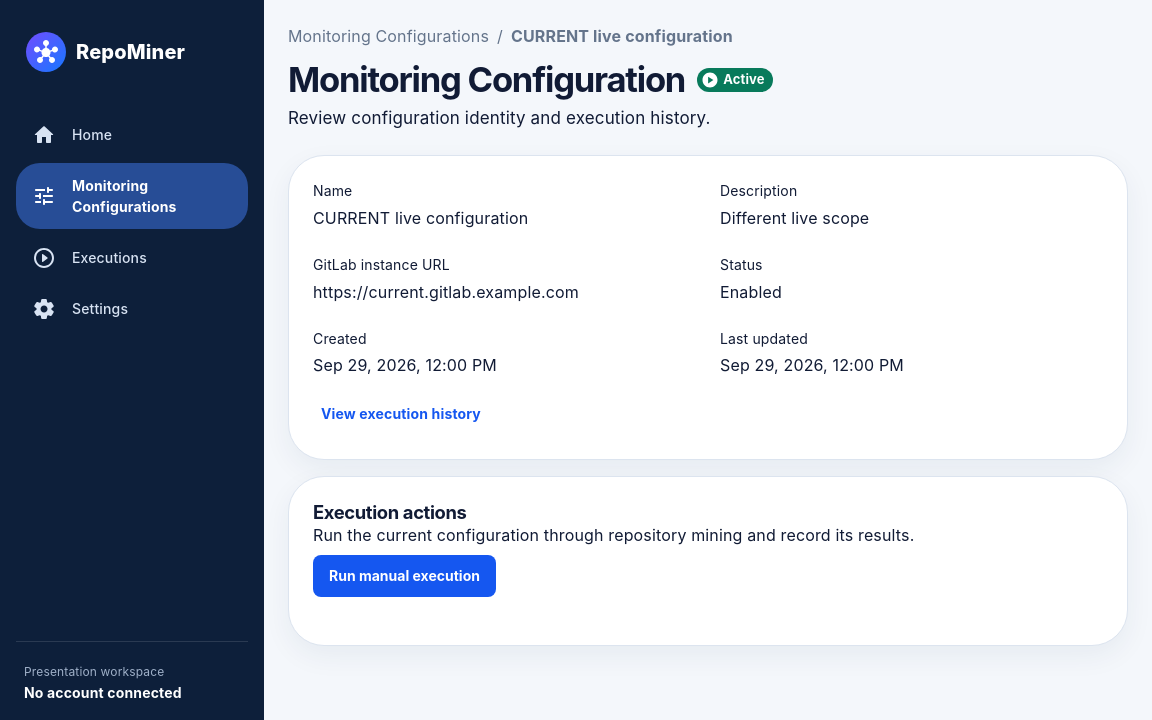
manually executes a disabled configuration and opens final details
This screenshot has width=1152, height=720.
Click the button "Run manual execution" at (404, 576), box [313,555,496,597]
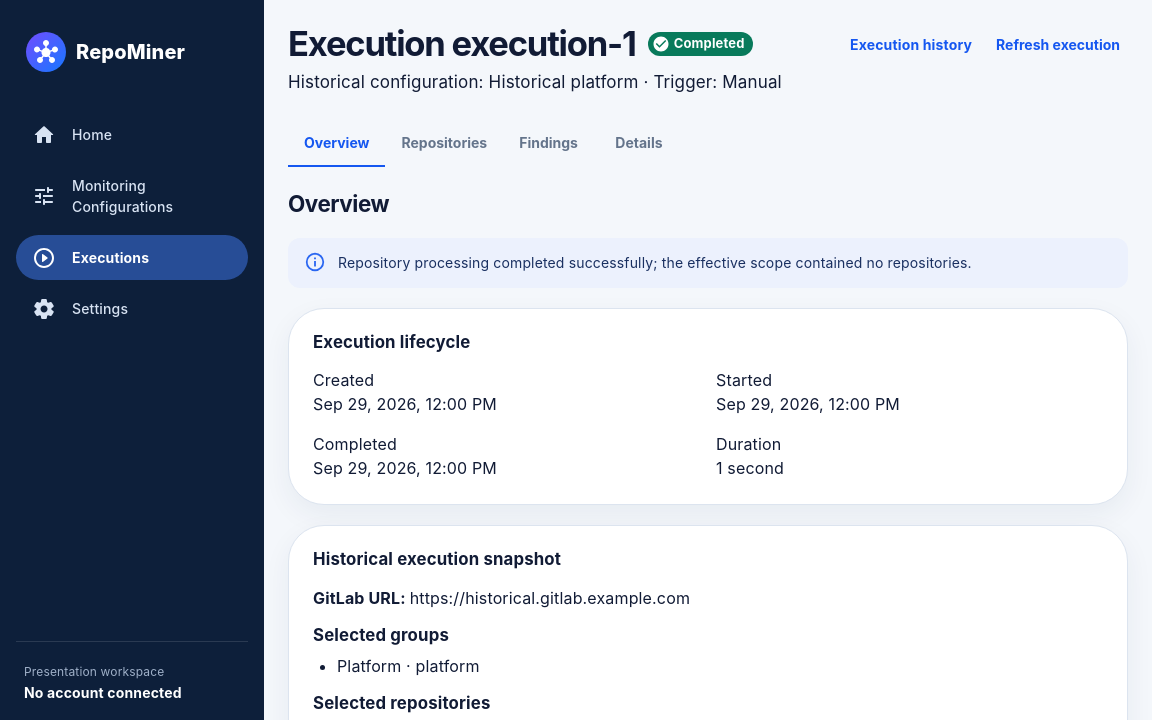
Now the heading "Execution execution-1" is shown, box [288,24,636,64]
Now the text "Repository processing completed successfully" is shown, box [338,254,972,271]
